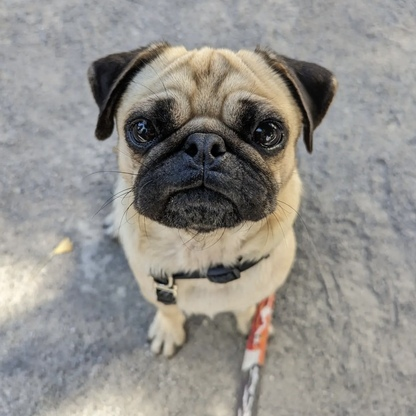Pug: (83, 37, 343, 364)
